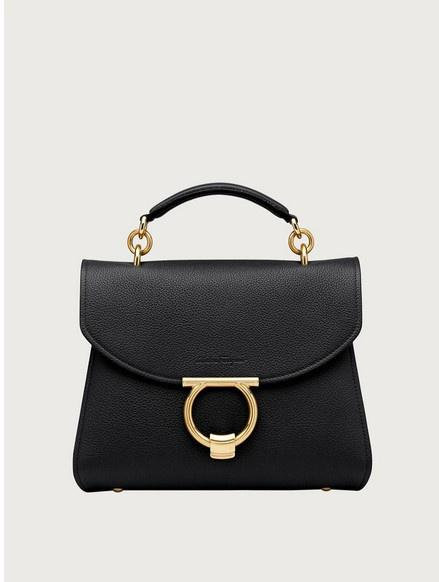FERRAGAMO: (172, 362, 269, 469)
